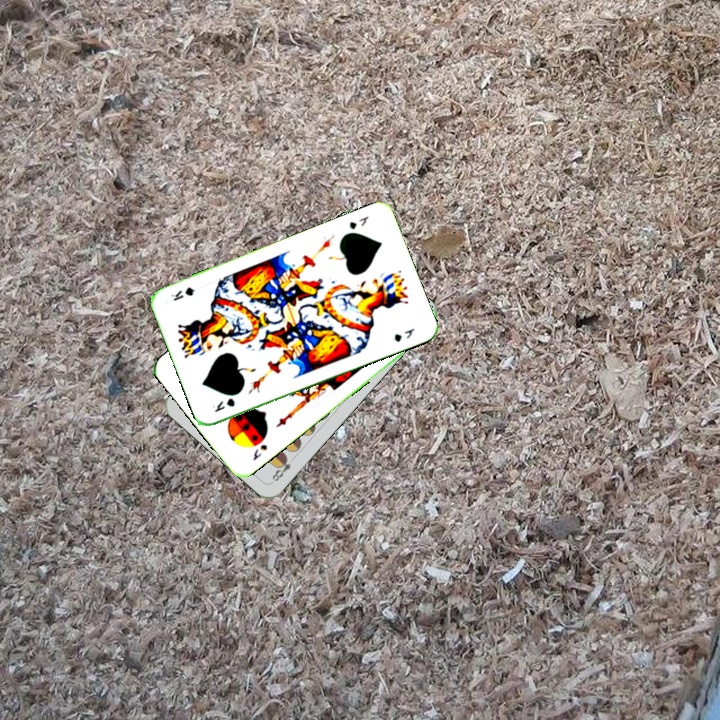E8: (267, 452, 294, 485)
GK: (208, 394, 238, 415), (345, 212, 371, 232)
SK: (249, 440, 270, 463)
